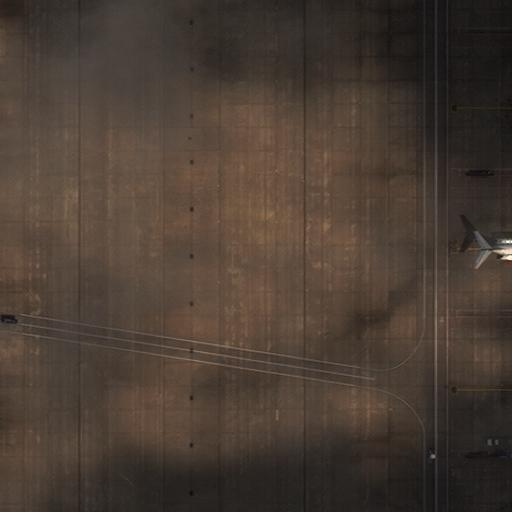Medium Civil Transport: (465, 214, 511, 283)
